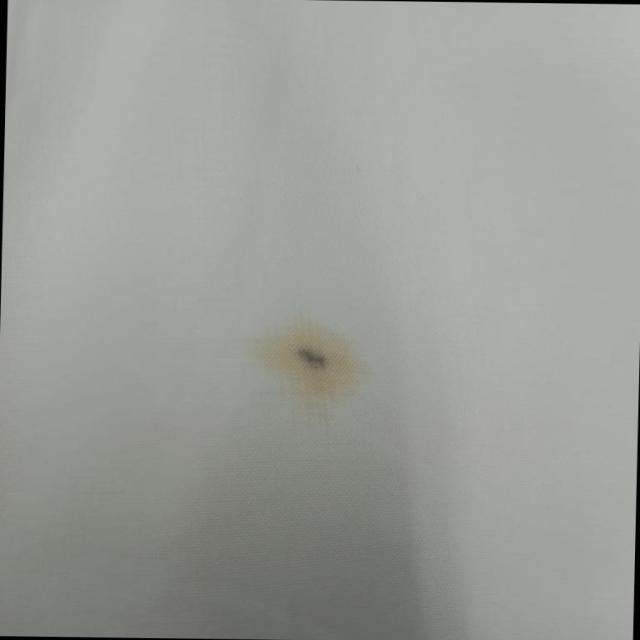stain: (246, 314, 376, 418)
